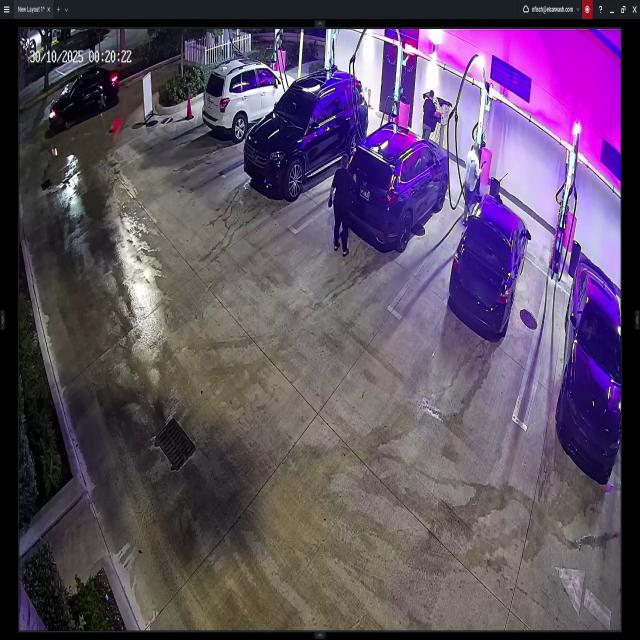Car: (244, 70, 370, 198), (335, 122, 449, 250), (556, 258, 621, 478), (449, 193, 529, 332), (204, 55, 296, 142), (49, 71, 121, 137)
